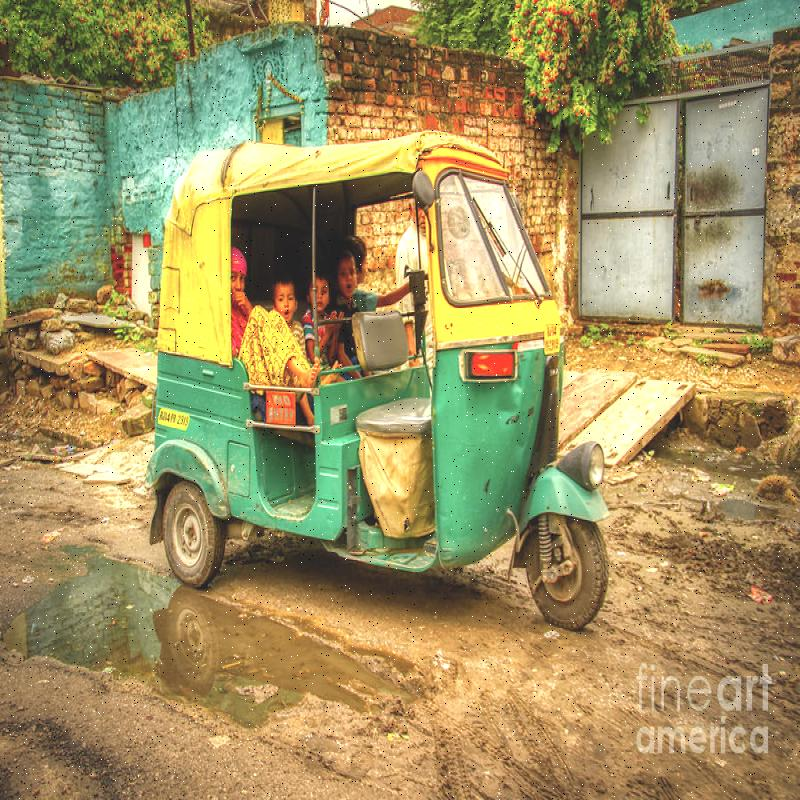auto: (153, 109, 640, 630)
